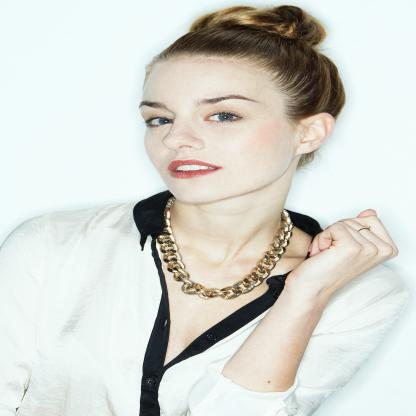Eye: (197, 107, 252, 127), (140, 112, 180, 128)
Mouth: (164, 157, 224, 179)
Nose: (162, 116, 206, 152)
